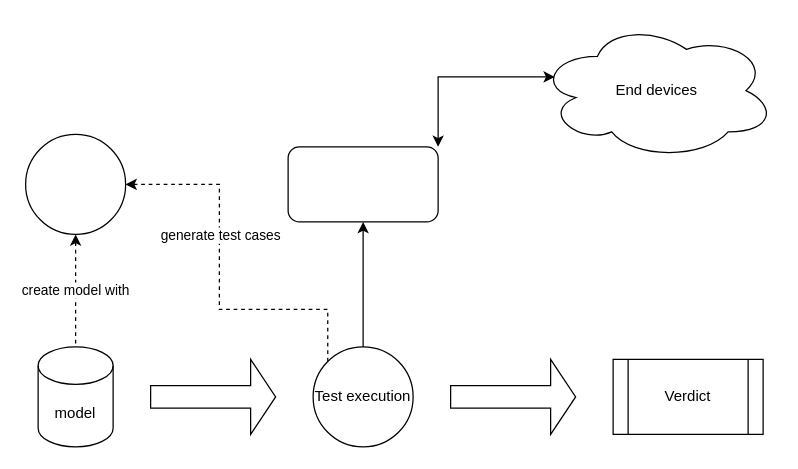
Image size: 798x469. Some labels were removed from this diagram. Each missing label, with the box of its shape:
Adaptor code: (287, 146, 438, 222)
Graphwalker: (24, 133, 126, 234)
